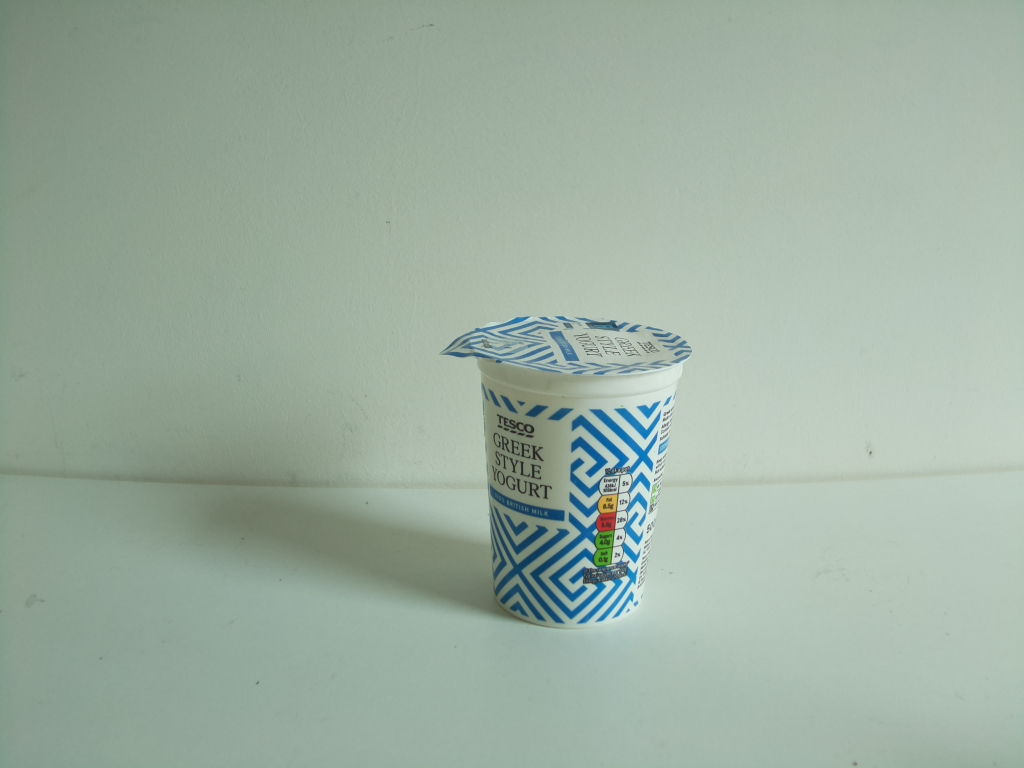yogurt: (436, 310, 694, 635)
